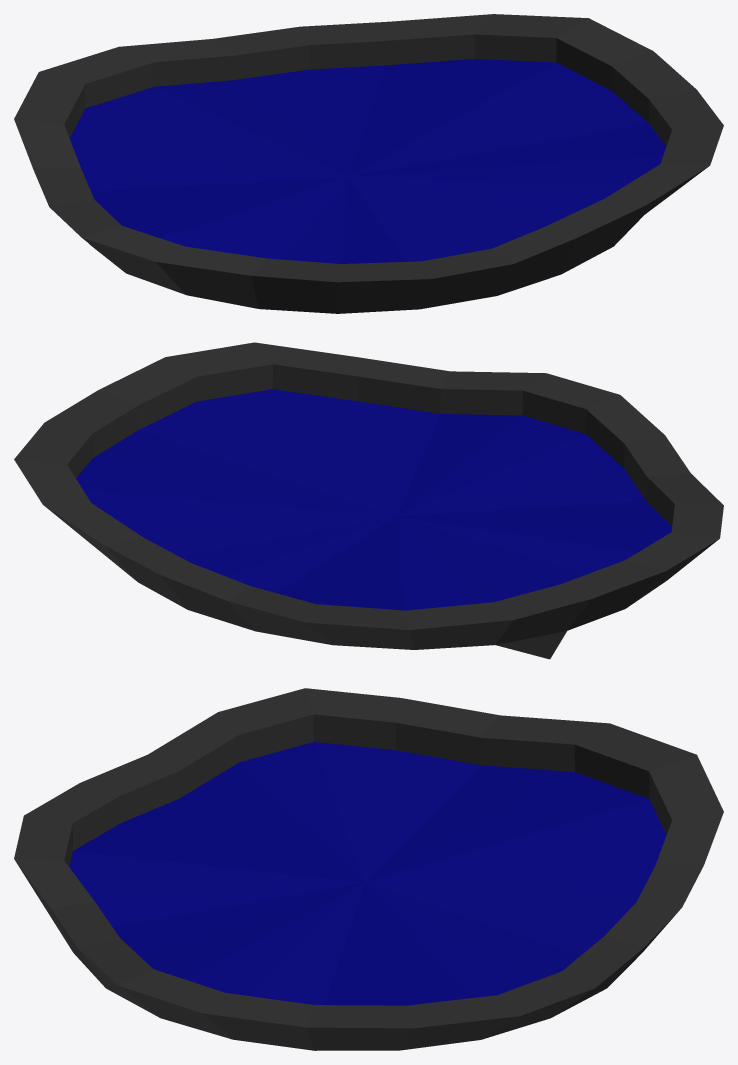
Rendered from moonwell.glb.
The picture shows the model from 3 angles, top to bottom: view 1: azimuth 30°, elevation 25°; view 2: azimuth 150°, elevation 25°; view 3: azimuth 270°, elevation 25°; orthographic projection. The views are drawn at different scales.
Visible parts, largest first — view 1: Cylinder; view 2: Cylinder; view 3: Cylinder.
Part boxes in pixels (x1,y1,x2,y2): Cylinder: (14, 14, 723, 313); Cylinder: (14, 342, 723, 659); Cylinder: (14, 688, 723, 1050).
Bounding box in the file's own units: 12.06 × 1.74 × 10.67.
